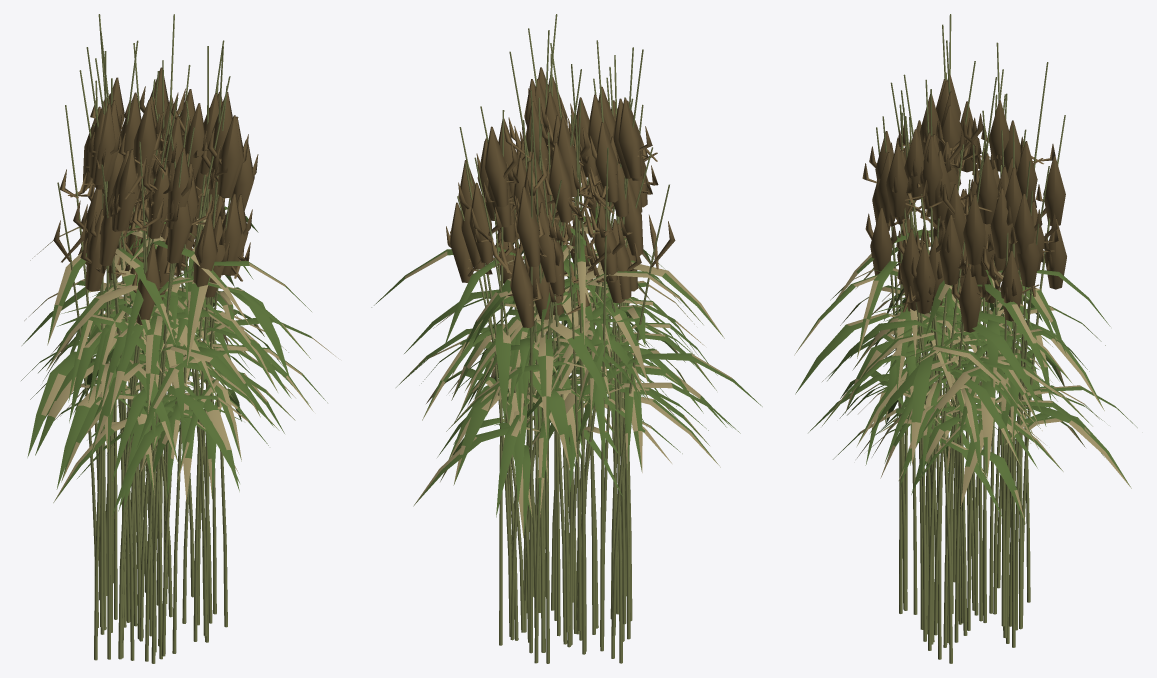
File: vegetation_05.glb
3 renders of one model, left to right at view 1: azimuth 30°, elevation 25°; view 2: azimuth 150°, elevation 25°; view 3: azimuth 270°, elevation 25°, orthographic. The views are drawn at different scales.
Visible parts, largest first — view 1: prototype_046, prototype_045, prototype_047, prototype_042, prototype_040, prototype_041, prototype_043, prototype_044; view 2: prototype_046, prototype_042, prototype_043, prototype_044, prototype_040, prototype_047, prototype_045, prototype_041; view 3: prototype_045, prototype_047, prototype_041, prototype_043, prototype_044, prototype_040, prototype_042, prototype_046.
Part boxes in pixels (left/top/right/bottom): prototype_046: left=27, top=40, right=268, bottom=660; prototype_045: left=46, top=46, right=291, bottom=663; prototype_047: left=22, top=65, right=338, bottom=656; prototype_042: left=24, top=14, right=277, bottom=659; prototype_040: left=35, top=40, right=258, bottom=653; prototype_041: left=84, top=58, right=311, bottom=639; prototype_043: left=43, top=31, right=313, bottom=652; prototype_044: left=21, top=14, right=327, bottom=659; prototype_046: left=413, top=40, right=762, bottom=663; prototype_042: left=461, top=47, right=716, bottom=663; prototype_043: left=422, top=53, right=717, bottom=663; prototype_044: left=453, top=30, right=682, bottom=644; prototype_040: left=371, top=28, right=726, bottom=647; prototype_047: left=433, top=43, right=685, bottom=652; prototype_045: left=396, top=14, right=724, bottom=651; prototype_041: left=421, top=78, right=731, bottom=645; prototype_045: left=849, top=74, right=1104, bottom=663; prototype_047: left=795, top=105, right=1072, bottom=641; prototype_041: left=840, top=69, right=1059, bottom=647; prototype_043: left=822, top=42, right=1110, bottom=647; prototype_044: left=794, top=61, right=1137, bottom=659; prototype_040: left=808, top=89, right=1104, bottom=642; prototype_042: left=833, top=24, right=1105, bottom=627; prototype_046: left=852, top=14, right=1131, bottom=622.
Size of the model in its own units: 1.79 by 3.26 by 1.74.
